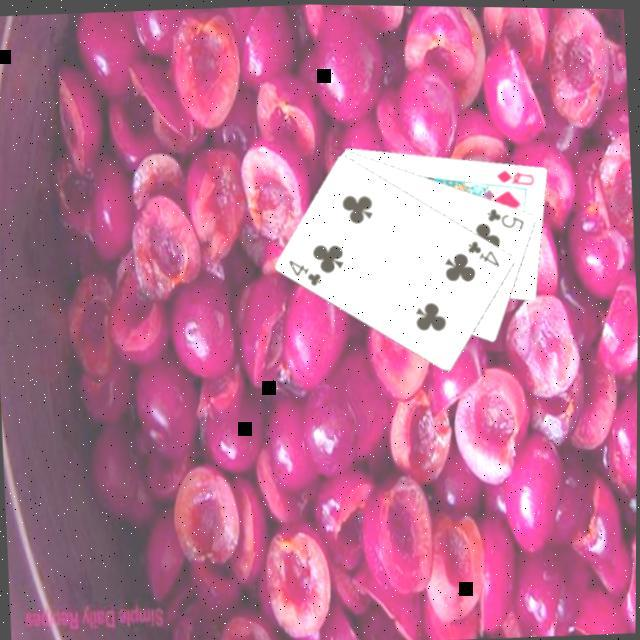4C: (466, 236, 506, 272), (288, 255, 328, 291)
5C: (487, 203, 530, 236)
QD: (495, 165, 540, 190)
